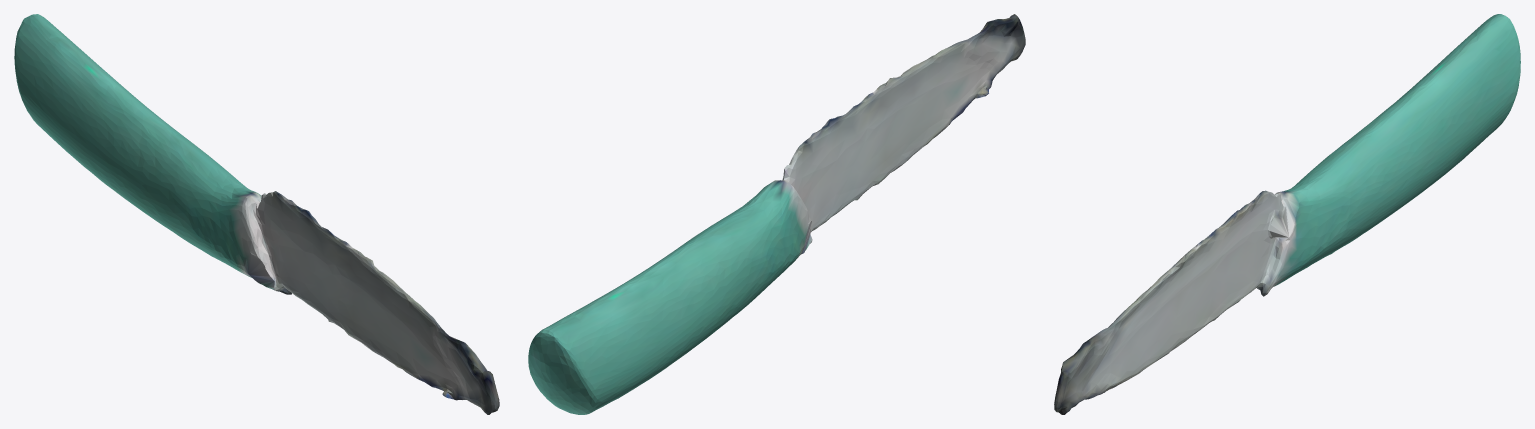
Rendered from scan.obj.
3 views of the same model, side by side, from view 1: azimuth 30°, elevation 25°; view 2: azimuth 150°, elevation 25°; view 3: azimuth 330°, elevation 25° (orthographic). The views are drawn at different scales.
Parts seen in each view (by area): view 1: scan.ply; view 2: scan.ply; view 3: scan.ply.
Part boxes in pixels (x1,y1,x2,y2): scan.ply: (14, 14, 499, 414); scan.ply: (528, 14, 1025, 414); scan.ply: (1054, 14, 1520, 414).
Size of the model in its own units: 0.0158 by 0.0273 by 0.2071.
